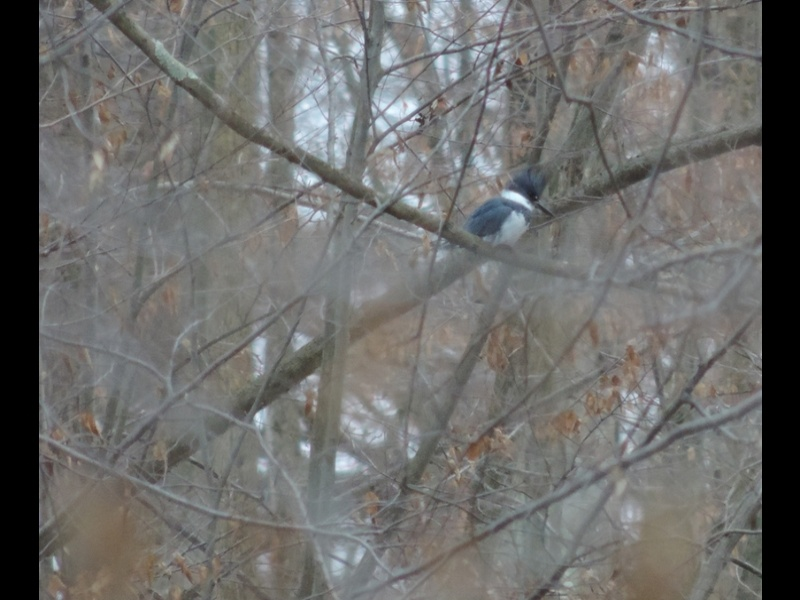kingfisher: (460, 166, 556, 253)
